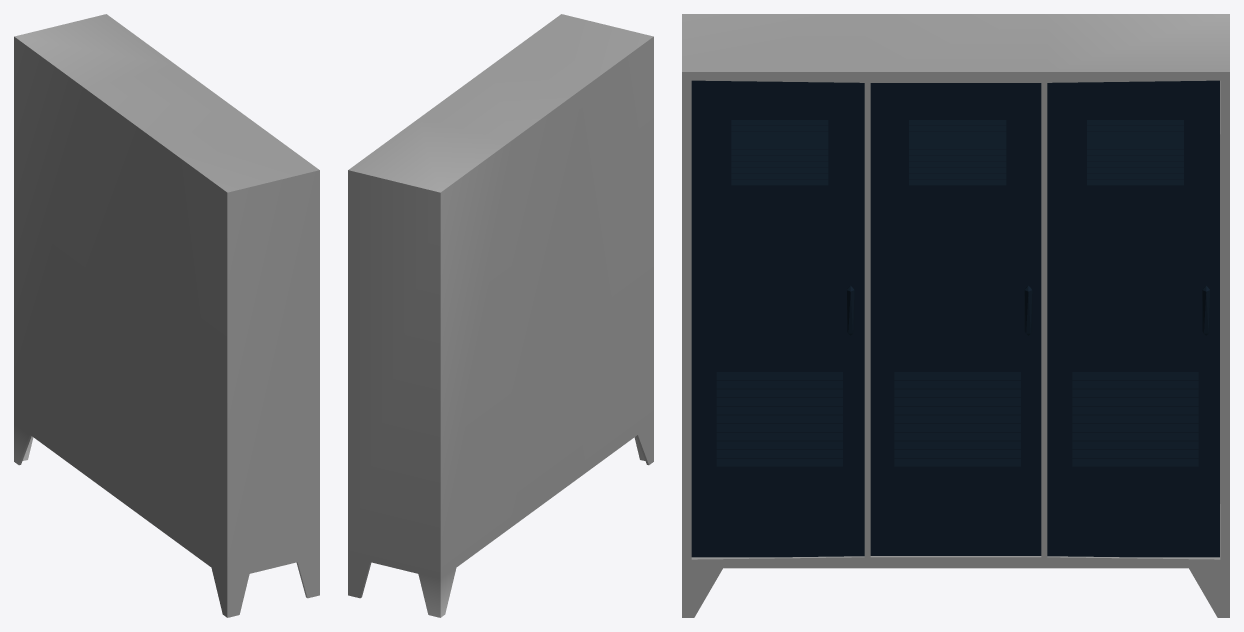
Rendered from dolap.fbx.
3 views of the same model, side by side, from view 1: azimuth 30°, elevation 25°; view 2: azimuth 150°, elevation 25°; view 3: azimuth 270°, elevation 25° (orthographic). The views are drawn at different scales.
Parts seen in each view (by area): view 1: dolap; view 2: dolap; view 3: dolap.
Part boxes in pixels (x1,y1,x2,y2): dolap: (14,14,319,617); dolap: (348,14,653,617); dolap: (682,14,1229,617).
Size of the model in its own units: 52.13 by 220 by 200.
